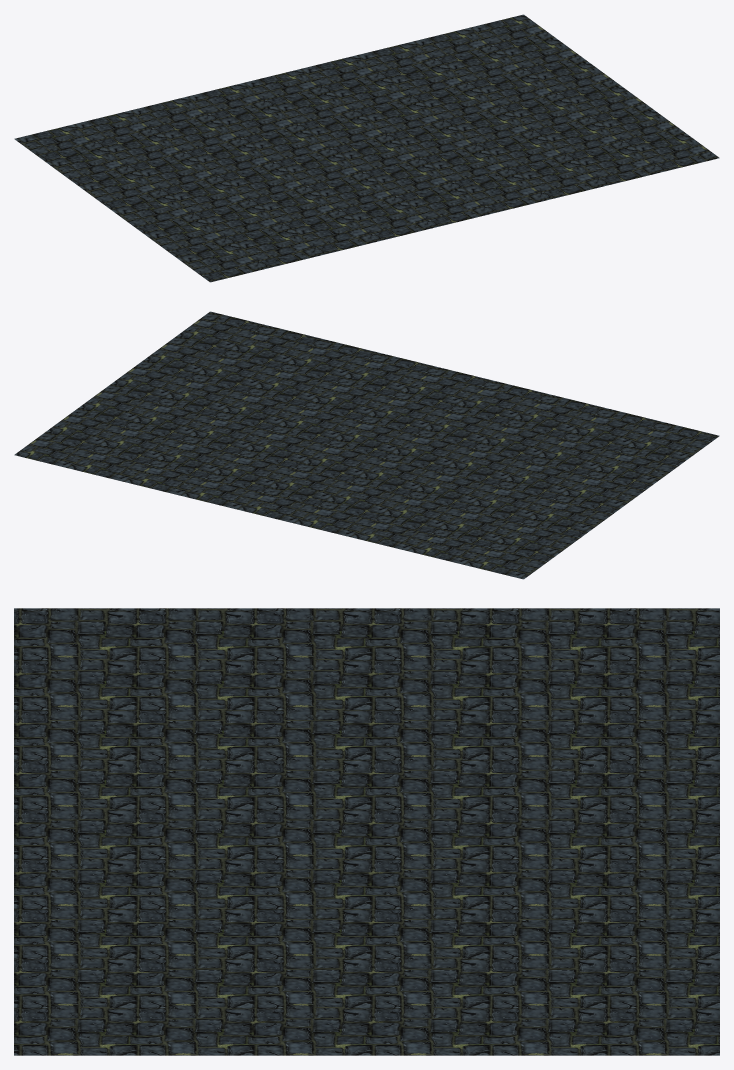
3 views of the same model, one above another, from view 1: azimuth 30°, elevation 25°; view 2: azimuth 150°, elevation 25°; view 3: azimuth 270°, elevation 25° (orthographic). The views are drawn at different scales.
Parts seen in each view (by area): view 1: Floor Tilable.019, Floor Tilable.026, Floor Tilable.038, Floor Tilable.042, Floor Tilable.011, Floor Tilable.013, Floor Tilable.017, Floor Tilable.024, Floor Tilable.040, Floor Tilable.047, Floor Tilable.048, Floor Tilable.053 (+42 smaller); view 2: Floor Tilable.010, Floor Tilable.018, Floor Tilable.046, Floor Tilable.051, Floor Tilable.014, Floor Tilable.021, Floor Tilable.022, Floor Tilable.027, Floor Tilable.037, Floor Tilable.039, Floor Tilable.043, Floor Tilable.050 (+42 smaller); view 3: Floor Tilable.014, Floor Tilable.024, Floor Tilable.040, Floor Tilable.050, Floor Tilable.011, Floor Tilable.017, Floor Tilable.021, Floor Tilable.027, Floor Tilable.037, Floor Tilable.043, Floor Tilable.047, Floor Tilable.053 (+42 smaller).
Part boxes in pixels (<box>): Floor Tilable.019: <box>136,159,224,196</box>; Floor Tilable.026: <box>14,125,102,162</box>; Floor Tilable.038: <box>631,134,719,171</box>; Floor Tilable.042: <box>509,100,597,137</box>; Floor Tilable.011: <box>419,90,507,127</box>; Floor Tilable.013: <box>443,52,532,89</box>; Floor Tilable.017: <box>354,42,442,79</box>; Floor Tilable.024: <box>160,121,248,158</box>; Floor Tilable.040: <box>485,138,573,175</box>; Floor Tilable.047: <box>291,217,379,254</box>; Floor Tilable.048: <box>201,207,290,244</box>; Floor Tilable.053: <box>226,169,314,206</box>; Floor Tilable.010: <box>136,397,224,434</box>; Floor Tilable.018: <box>14,431,102,468</box>; Floor Tilable.046: <box>631,422,719,459</box>; Floor Tilable.051: <box>509,456,597,493</box>; Floor Tilable.014: <box>160,435,248,472</box>; Floor Tilable.021: <box>419,466,507,503</box>; Floor Tilable.022: <box>443,504,532,541</box>; Floor Tilable.027: <box>354,514,442,551</box>; Floor Tilable.037: <box>291,339,379,376</box>; Floor Tilable.039: <box>201,349,290,386</box>; Floor Tilable.043: <box>226,387,314,424</box>; Floor Tilable.050: <box>485,418,573,455</box>; Floor Tilable.014: <box>484,906,602,956</box>; Floor Tilable.024: <box>484,707,602,757</box>; Floor Tilable.040: <box>131,906,249,956</box>; Floor Tilable.050: <box>131,707,249,757</box>; Floor Tilable.011: <box>367,906,484,956</box>; Floor Tilable.017: <box>602,906,719,956</box>; Floor Tilable.021: <box>367,707,484,757</box>; Floor Tilable.027: <box>602,707,719,757</box>; Floor Tilable.037: <box>14,906,131,956</box>; Floor Tilable.043: <box>249,906,366,956</box>; Floor Tilable.047: <box>14,707,131,757</box>; Floor Tilable.053: <box>249,707,366,757</box>.
Size of the model in its own units: 1800 by 0.000196 by 1200.
1 material, 1 textured.
